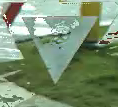Give way: (3, 0, 97, 100)
